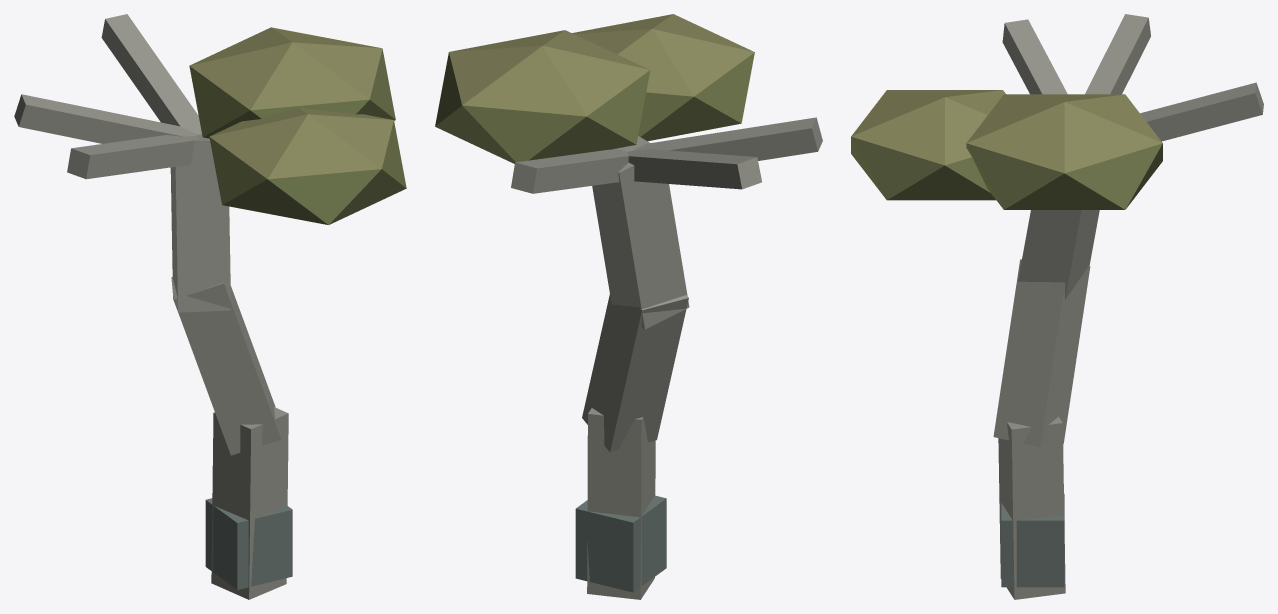
File: SM_Pino_v4_LOD1.fbx
The picture shows the model from 3 angles, left to right: view 1: azimuth 30°, elevation 25°; view 2: azimuth 150°, elevation 25°; view 3: azimuth 270°, elevation 25°; orthographic projection. The views are drawn at different scales.
Parts seen in each view (by area): view 1: SM_pino_v4_LOD1; view 2: SM_pino_v4_LOD1; view 3: SM_pino_v4_LOD1.
Part boxes in pixels (<box>): SM_pino_v4_LOD1: <box>14,14,406,599</box>; SM_pino_v4_LOD1: <box>435,14,822,599</box>; SM_pino_v4_LOD1: <box>851,14,1263,599</box>.
Bounding box in the file's own units: 5.23 × 7.7 × 5.61.
